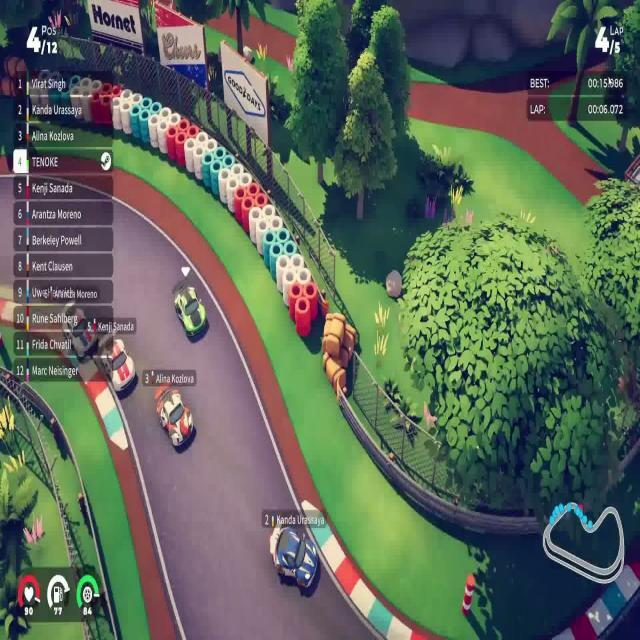car: (269, 522, 318, 590), (154, 384, 194, 449), (98, 335, 136, 392), (173, 282, 207, 338)
